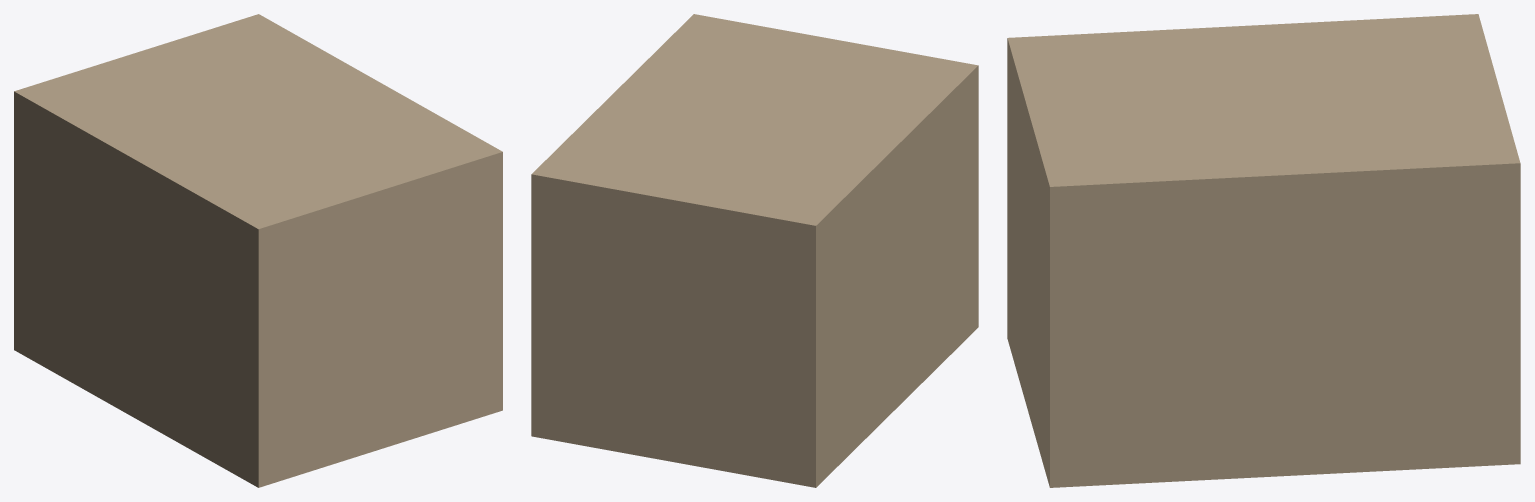
File: bld_107639087.dae
The picture shows the model from 3 angles, left to right: view 1: azimuth 30°, elevation 25°; view 2: azimuth 150°, elevation 25°; view 3: azimuth 270°, elevation 25°; orthographic projection. The views are drawn at different scales.
Visible parts, largest first — view 1: bld_107639087; view 2: bld_107639087; view 3: bld_107639087.
Part boxes in pixels (box(x1,y1,x2,y2)): bld_107639087: box(14, 14, 502, 487); bld_107639087: box(531, 14, 978, 487); bld_107639087: box(1007, 14, 1520, 487).
Bounding box in the file's own units: 9.86 × 12.36 × 8.
